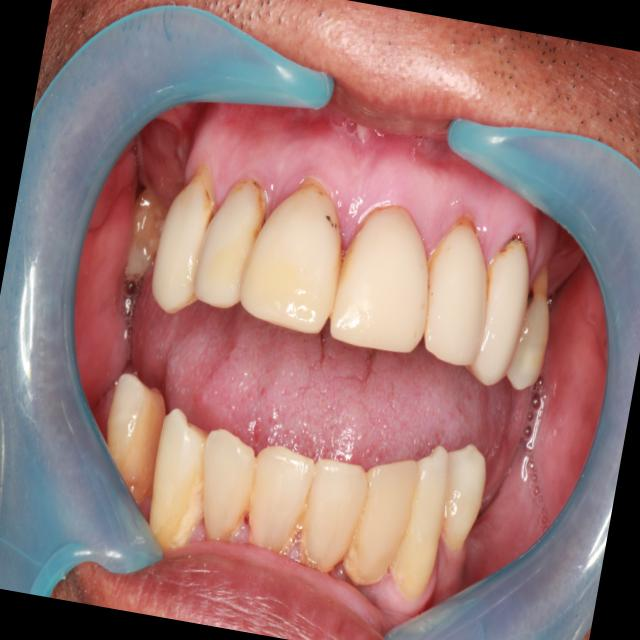tooth: (230, 166, 360, 354), (324, 194, 448, 370), (405, 199, 512, 381), (184, 151, 275, 323), (453, 223, 543, 395), (336, 436, 427, 605), (143, 149, 231, 323), (136, 395, 228, 561), (378, 428, 461, 610), (90, 364, 183, 524), (290, 442, 377, 588), (184, 414, 270, 556), (234, 429, 321, 563), (421, 423, 500, 564), (501, 252, 565, 400), (114, 179, 179, 299)
